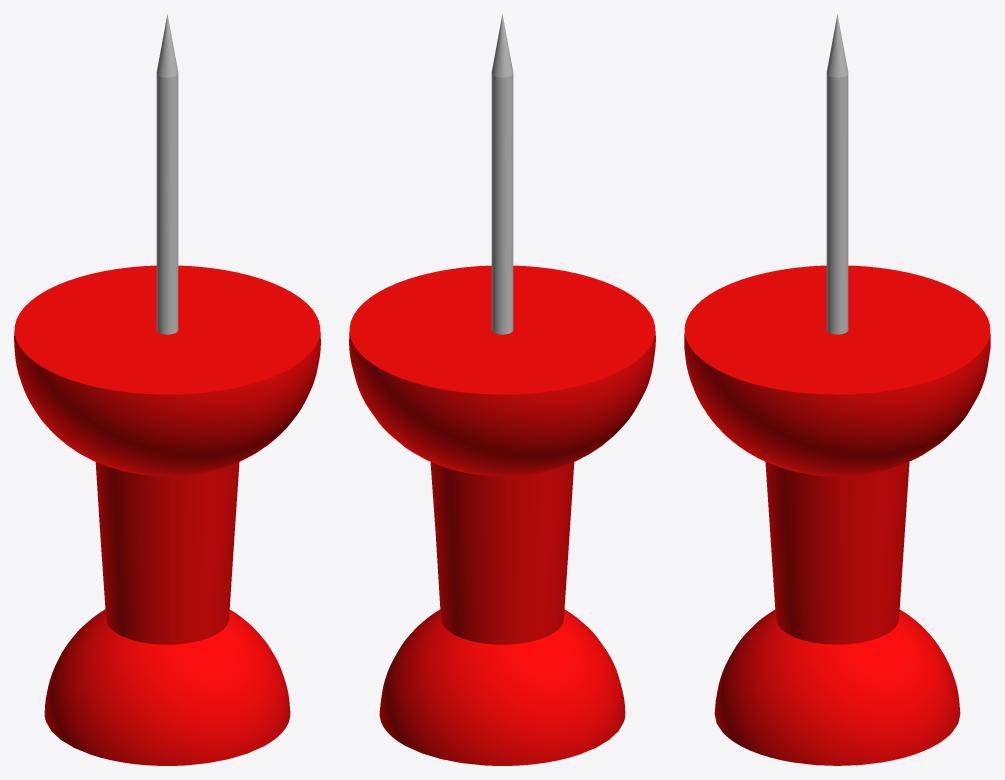
Rendered from asset.glb.
3 renders of one model, left to right at view 1: azimuth 30°, elevation 25°; view 2: azimuth 150°, elevation 25°; view 3: azimuth 270°, elevation 25°, orthographic.
Parts seen in each view (by area): view 1: Body1; view 2: Body1; view 3: Body1.
Part boxes in pixels (box(x1,y1,x2,y2)): Body1: box(14, 14, 320, 765); Body1: box(349, 14, 655, 765); Body1: box(684, 14, 990, 765).
Bounding box in the file's own units: 0.00874 × 0.022 × 0.00873.
